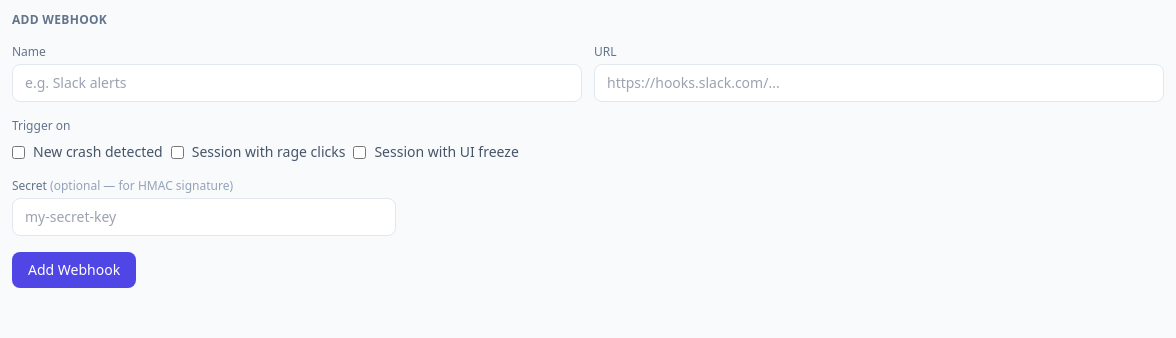
Test: WebhookForm › shows error when url is missing
Type "Slack" into the field with test id "webhook-name-input". click: (297, 83)
box: x1=12 y1=64 x2=582 y2=102
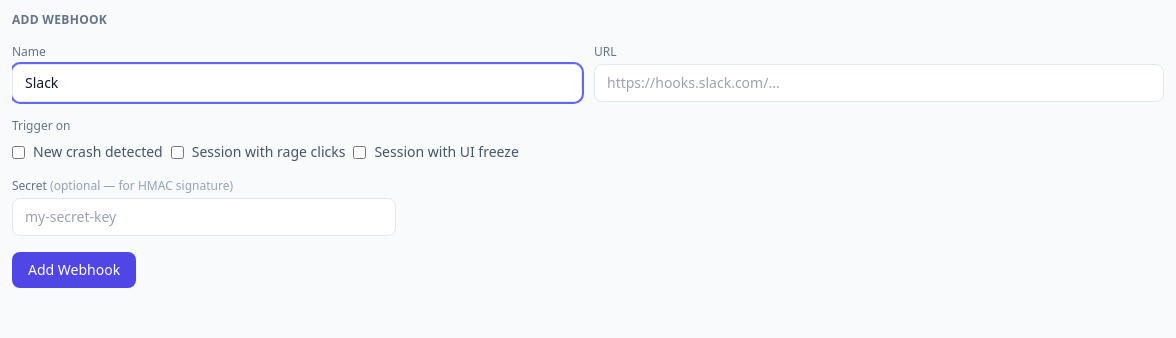
Click the button with test id "webhook-save-button". click: (74, 270)
box: x1=12 y1=252 x2=136 y2=288
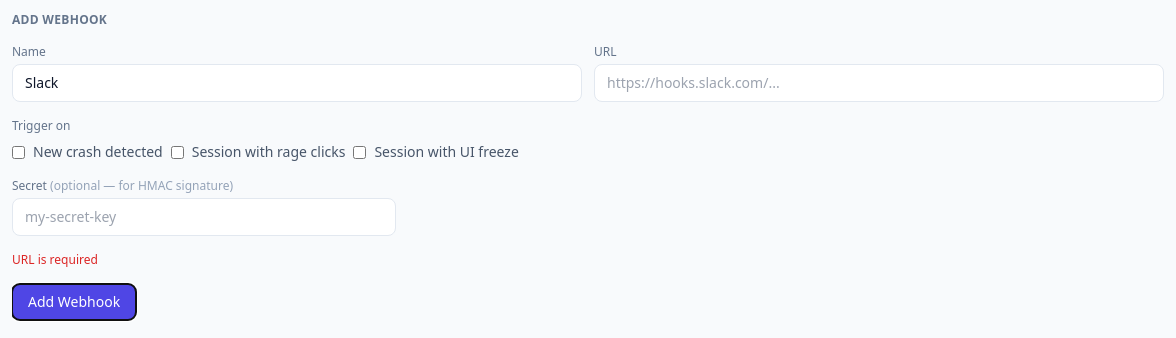
Result: the text with test id "webhook-error" shows "URL" at x1=12 y1=251 x2=98 y2=268
